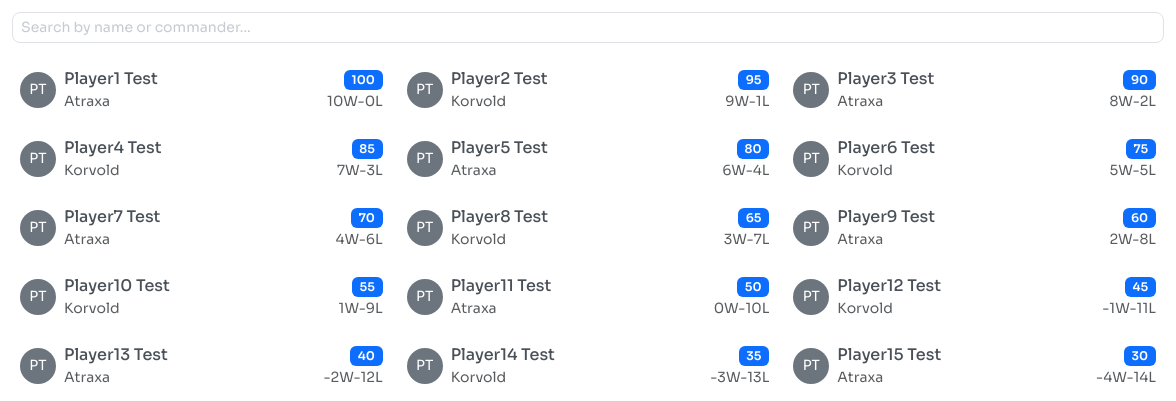
ParticipantsSection › search functionality › should filter participants by commander name
In the field with placeholder "Search by name or commander...": coordinates (588, 28) [12,12,1164,43], type "Atraxa"
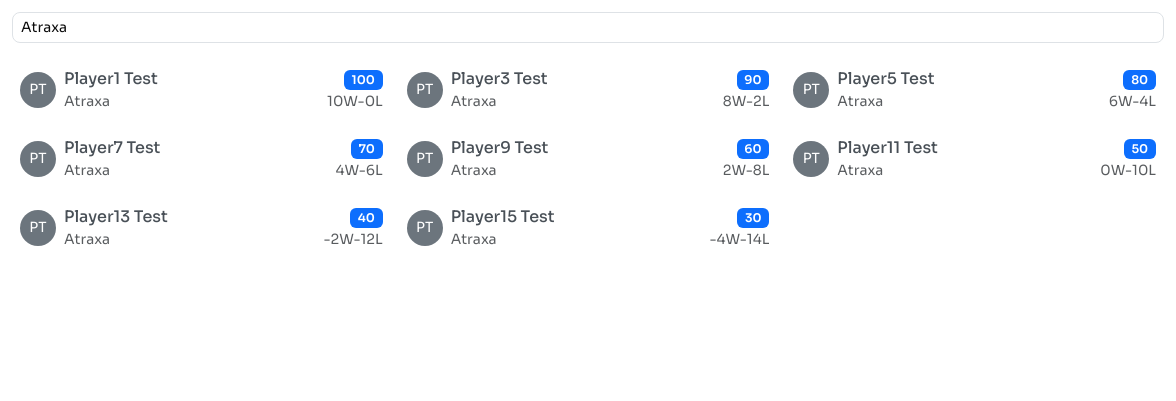
Expected: the text "Player1 Test" is shown, [64,68,158,89]
Expected: the link "Player2 Test" is gone
